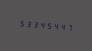five: (45, 19, 51, 31), (17, 17, 23, 28)
four: (52, 20, 58, 32), (38, 19, 44, 30), (59, 21, 65, 32)
seven: (66, 21, 72, 33)
three: (31, 18, 37, 30), (24, 18, 30, 29)
